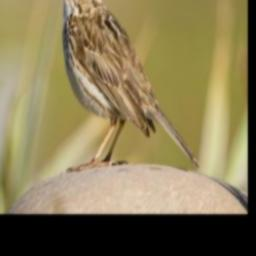Sparrow: (52, 0, 204, 184)
